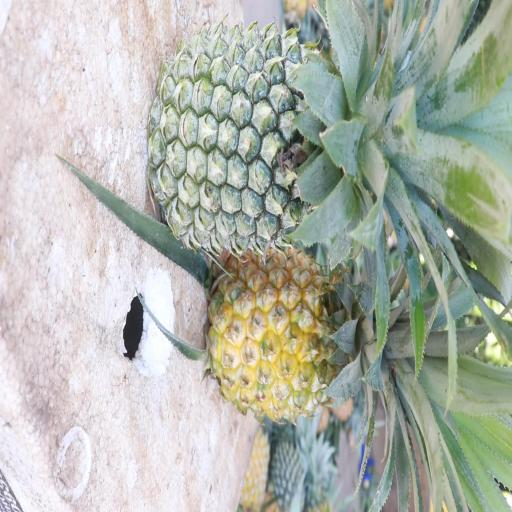Pineapple - v8 v1: (210, 254, 464, 496)
